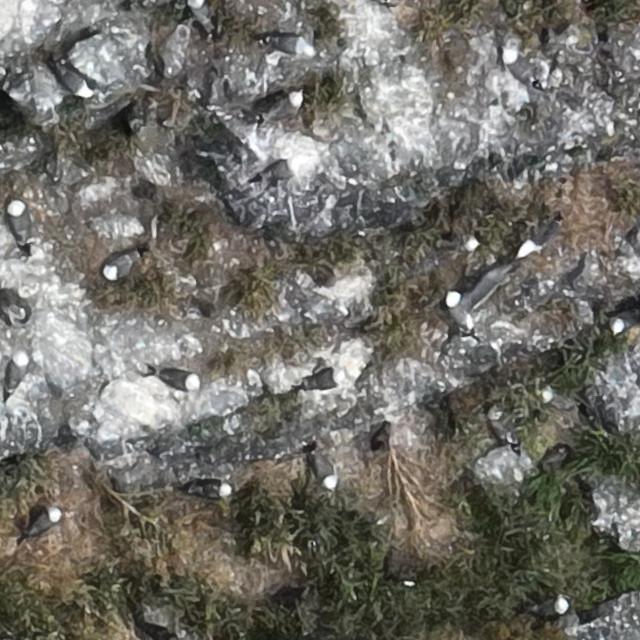F: (447, 273, 501, 330)
umineko: (501, 44, 534, 84), (489, 405, 515, 448), (260, 158, 302, 183), (265, 93, 301, 118), (267, 35, 312, 55), (518, 229, 548, 259), (57, 70, 91, 96), (153, 368, 197, 388), (106, 253, 136, 280), (8, 204, 30, 240), (7, 352, 28, 389), (314, 454, 336, 489), (542, 390, 574, 412), (192, 480, 230, 498), (33, 507, 60, 532), (532, 597, 568, 615), (612, 309, 638, 332), (308, 371, 340, 389), (190, 1, 210, 26), (452, 235, 476, 252)
